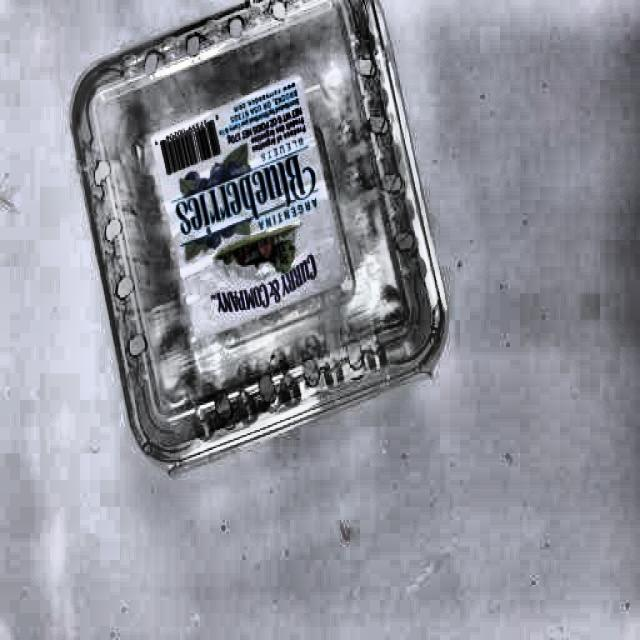plastic: (68, 16, 444, 463)
